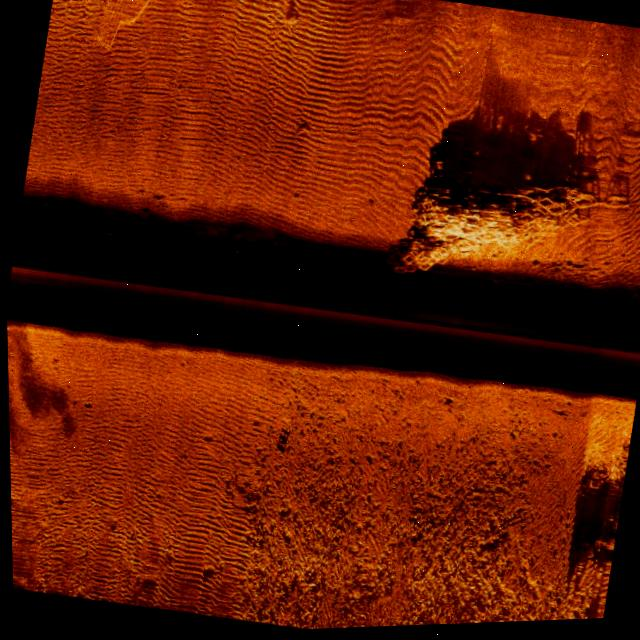artificial reef: (378, 110, 617, 314)
